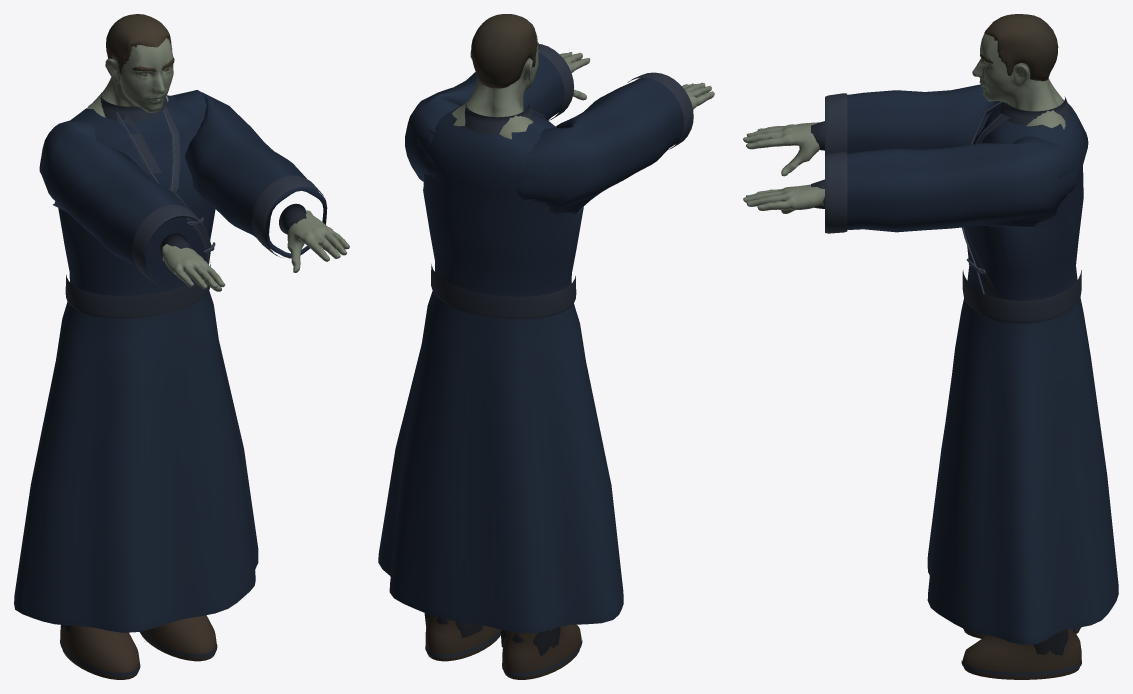
File: title_walker.glb
3 views of the same model, side by side, from view 1: azimuth 30°, elevation 25°; view 2: azimuth 150°, elevation 25°; view 3: azimuth 270°, elevation 25° (orthographic).
Visible parts, largest first — view 1: StreetFigure, LeftFoot, RightFoot; view 2: StreetFigure, LeftFoot, RightFoot; view 3: StreetFigure, RightFoot.
Boxes of the visible parts, x1,y1,x2,y2 form: StreetFigure: [14, 14, 349, 632]; LeftFoot: [60, 625, 140, 679]; RightFoot: [140, 615, 217, 661]; StreetFigure: [378, 14, 714, 633]; LeftFoot: [500, 624, 582, 679]; RightFoot: [424, 613, 500, 661]; StreetFigure: [743, 14, 1118, 644]; RightFoot: [961, 628, 1081, 679].
Size of the model in its own units: 0.7081 by 1.8 by 0.9715.
